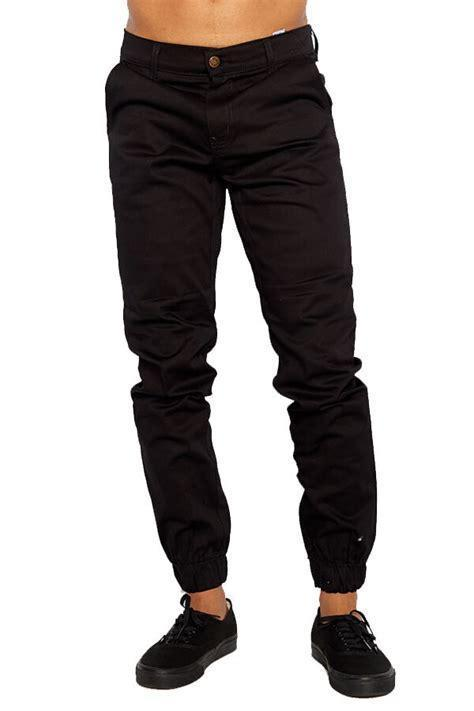pants: (105, 26, 379, 593)
